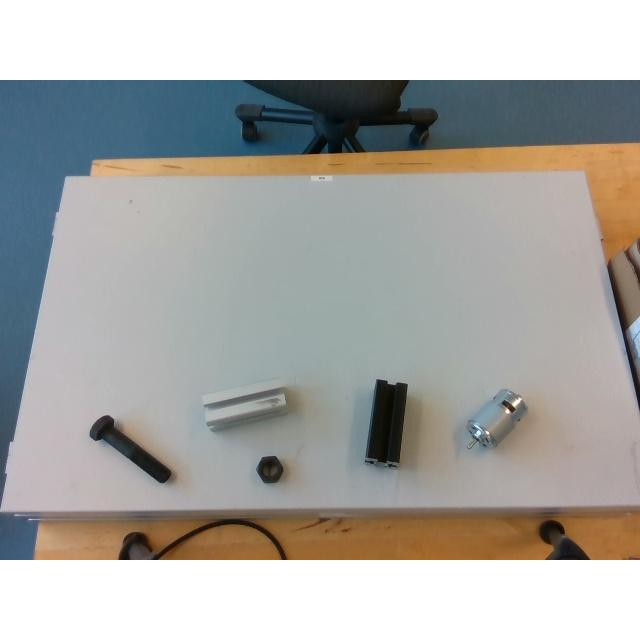M20: (258, 456, 282, 482)
M20_100: (90, 414, 170, 482)
Motor2: (466, 388, 526, 448)
S40_40_B: (365, 379, 407, 467)
S40_40_G: (202, 378, 286, 430)
